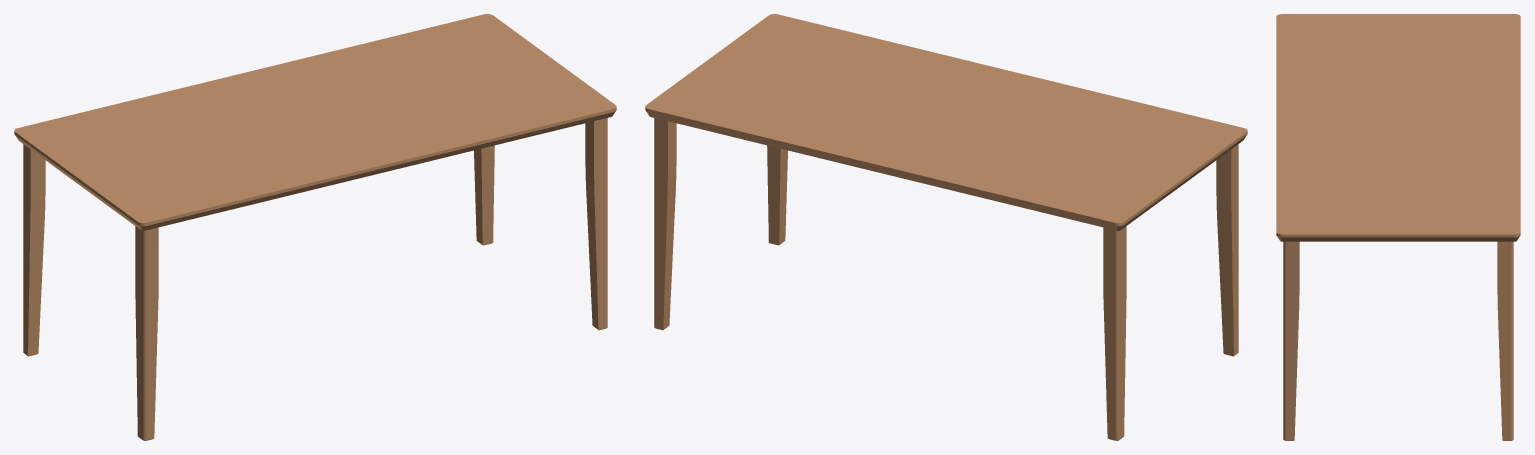
File: 585_ダイニングテーブル6人掛け.glb
3 views of the same model, side by side, from view 1: azimuth 30°, elevation 25°; view 2: azimuth 150°, elevation 25°; view 3: azimuth 270°, elevation 25° (orthographic). The views are drawn at different scales.
Parts seen in each view (by area): view 1: Body; view 2: Body; view 3: Body.
Boxes of the visible parts, x1,y1,x2,y2 form: Body: [14, 14, 616, 440]; Body: [645, 14, 1247, 440]; Body: [1276, 14, 1520, 440].
Bounding box in the file's own units: 1.6 × 0.71 × 0.75.
